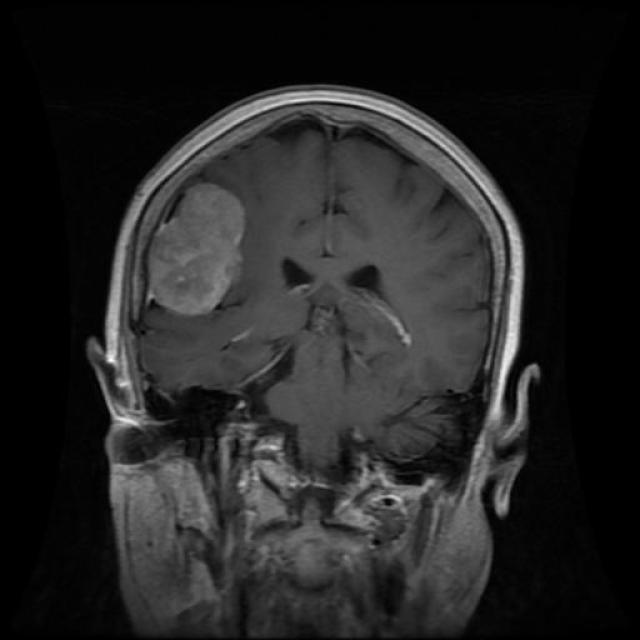meningioma: (150, 185, 245, 316)
